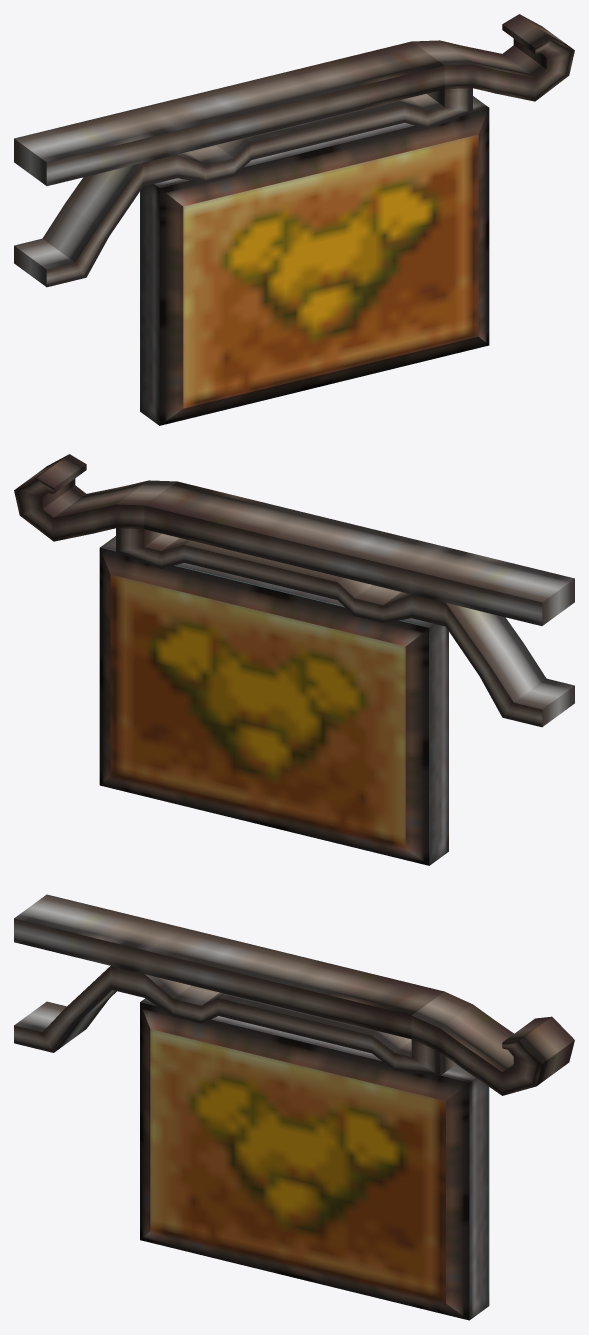
Rendered from Poly_SF_Outside_B_Board_Sign_02.obj.
3 renders of one model, top to bottom at view 1: azimuth 30°, elevation 25°; view 2: azimuth 150°, elevation 25°; view 3: azimuth 330°, elevation 25°, orthographic.
Parts seen in each view (by area): view 1: Cube, Cube.001; view 2: Cube, Cube.001; view 3: Cube, Cube.001.
Part boxes in pixels (x1=…): Cube: x1=140, y1=96, x2=489, y2=425; Cube.001: x1=14, y1=14, x2=574, y2=287; Cube: x1=99, y1=536, x2=448, y2=865; Cube.001: x1=14, y1=454, x2=574, y2=727; Cube: x1=140, y1=998, x2=489, y2=1320; Cube.001: x1=14, y1=894, x2=574, y2=1095.
Size of the model in its own units: 0.9295 by 0.5019 by 0.1.
Materials: 1 (1 with a texture image).
